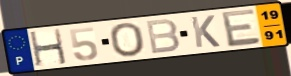5: (67, 25, 99, 62)
B: (144, 18, 182, 56)
E: (219, 7, 263, 49)
H: (27, 27, 69, 68)
K: (189, 14, 222, 49)
O: (108, 21, 147, 58)
